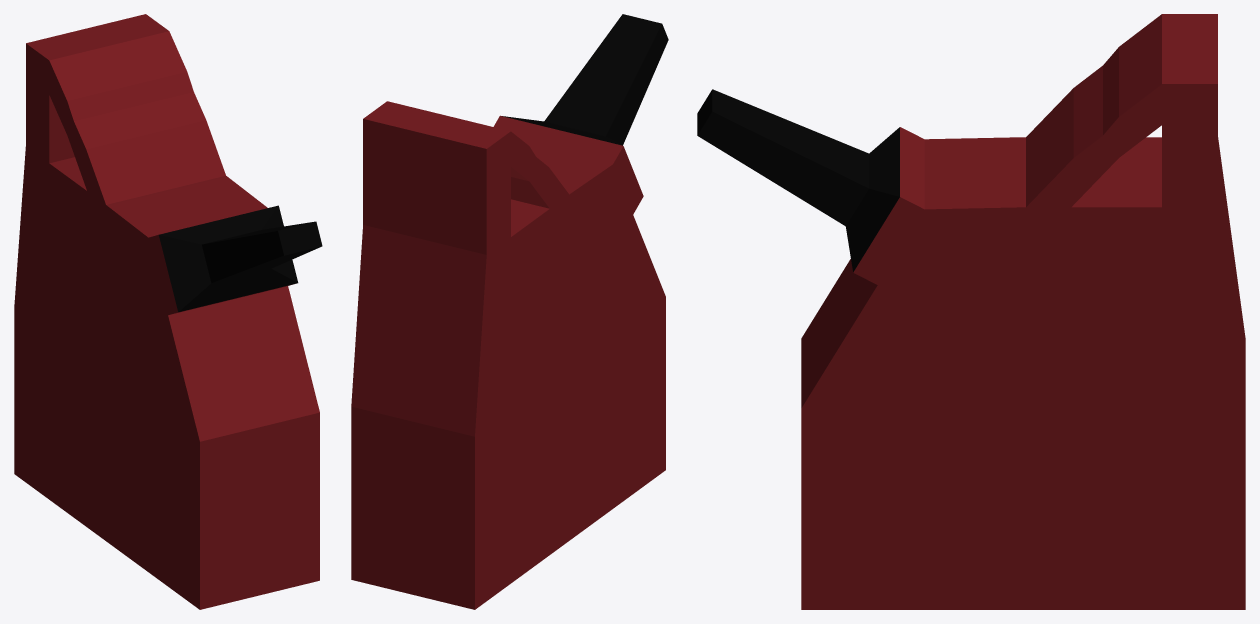
File: Fuel Slow.fbx
3 renders of one model, left to right at view 1: azimuth 30°, elevation 25°; view 2: azimuth 150°, elevation 25°; view 3: azimuth 270°, elevation 25°, orthographic. The views are drawn at different scales.
Visible parts, largest first — view 1: Cube, Cube.001; view 2: Cube, Cube.001; view 3: Cube, Cube.001.
Boxes of the visible parts, x1=… form: Cube: x1=14, y1=14, x2=319, y2=609; Cube.001: x1=159, y1=205, x2=322, y2=312; Cube: x1=351, y1=101, x2=665, y2=609; Cube.001: x1=502, y1=14, x2=668, y2=145; Cube: x1=801, y1=14, x2=1245, y2=609; Cube.001: x1=697, y1=89, x2=899, y2=272.
Bounding box in the file's own units: 74.72 × 261 × 247.
